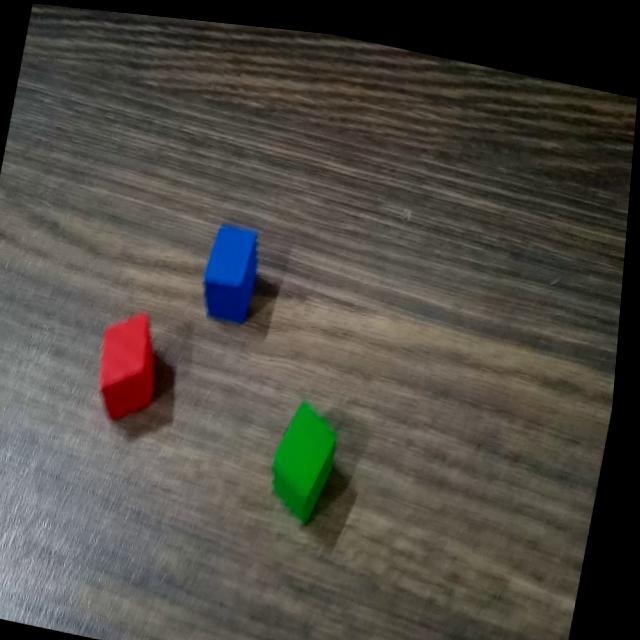cube: (266, 383, 354, 525), (90, 299, 173, 430), (197, 209, 270, 324)
